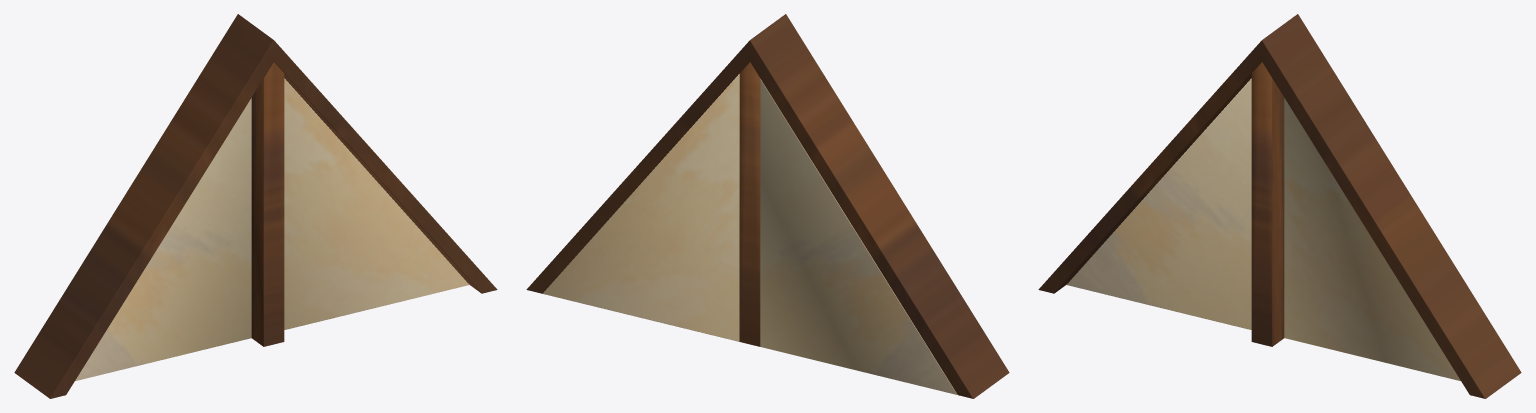
The model's file is CM_FacadeBay01_Gable_Secondary.fbx.
3 renders of one model, left to right at view 1: azimuth 30°, elevation 25°; view 2: azimuth 150°, elevation 25°; view 3: azimuth 330°, elevation 25°, orthographic.
Parts seen in each view (by area): view 1: CM_FacadeBay01_Gable_Secondary_Plaster, CM_FacadeBay01_Gable_Secondary_ContinuousRake, CM_FacadeBay01_Gable_Secondary_KingPost; view 2: CM_FacadeBay01_Gable_Secondary_Plaster, CM_FacadeBay01_Gable_Secondary_ContinuousRake, CM_FacadeBay01_Gable_Secondary_KingPost; view 3: CM_FacadeBay01_Gable_Secondary_Plaster, CM_FacadeBay01_Gable_Secondary_ContinuousRake, CM_FacadeBay01_Gable_Secondary_KingPost.
Boxes of the visible parts, x1,y1,x2,y2 form: CM_FacadeBay01_Gable_Secondary_Plaster: (75, 78, 469, 380); CM_FacadeBay01_Gable_Secondary_ContinuousRake: (14, 14, 497, 398); CM_FacadeBay01_Gable_Secondary_KingPost: (251, 62, 284, 346); CM_FacadeBay01_Gable_Secondary_Plaster: (542, 74, 957, 394); CM_FacadeBay01_Gable_Secondary_ContinuousRake: (526, 14, 1009, 398); CM_FacadeBay01_Gable_Secondary_KingPost: (739, 62, 760, 346); CM_FacadeBay01_Gable_Secondary_Plaster: (1066, 78, 1460, 380); CM_FacadeBay01_Gable_Secondary_ContinuousRake: (1038, 14, 1521, 398); CM_FacadeBay01_Gable_Secondary_KingPost: (1251, 62, 1284, 346).
Size of the model in its own units: 3 by 1.95 by 0.42.
